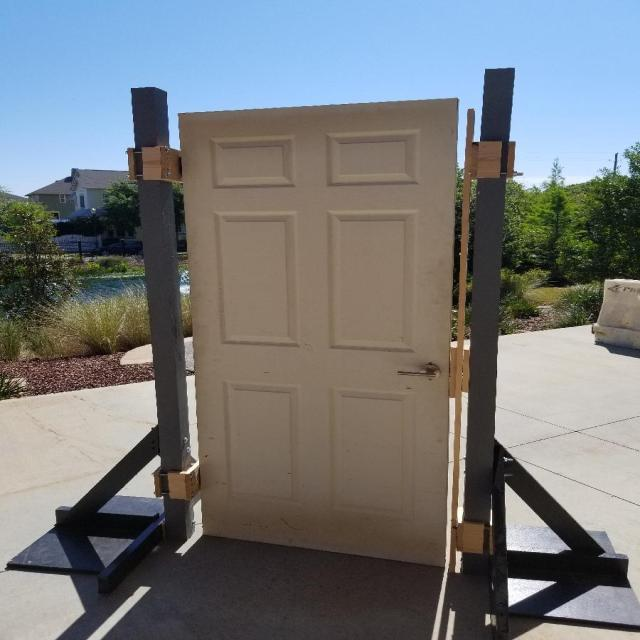door: (175, 95, 462, 570), (393, 360, 448, 388)
